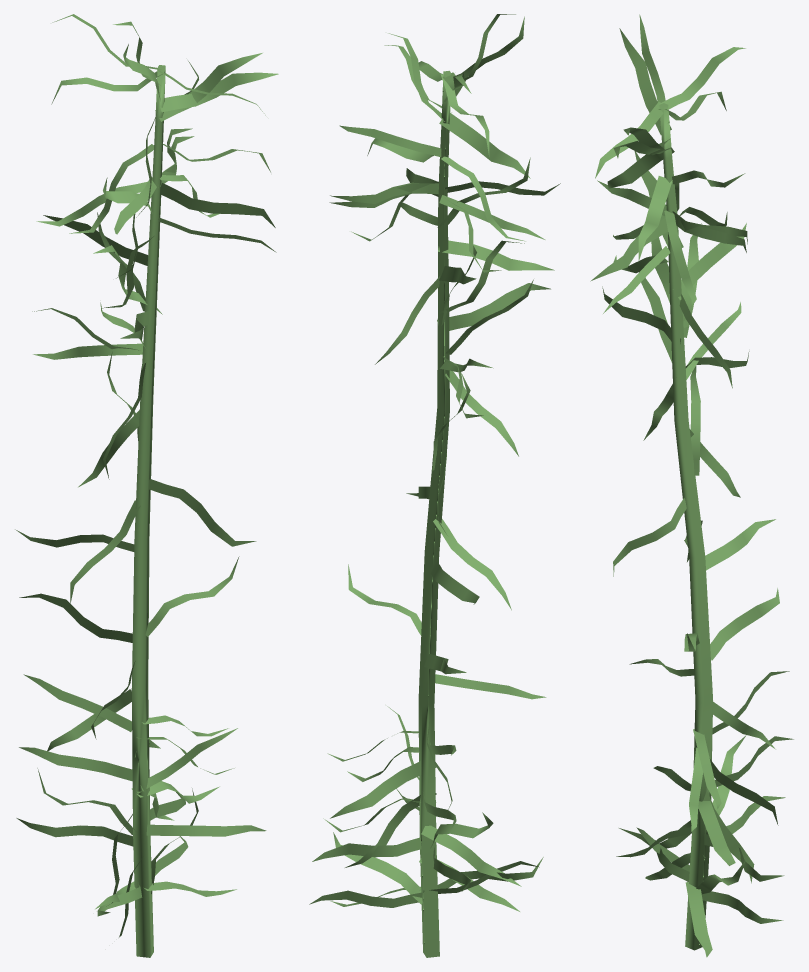
Rendered from Alga.fbx.
3 renders of one model, left to right at view 1: azimuth 30°, elevation 25°; view 2: azimuth 150°, elevation 25°; view 3: azimuth 270°, elevation 25°, orthographic. The views are drawn at different scales.
Visible parts, largest first — view 1: Alga; view 2: Alga; view 3: Alga.
Boxes of the visible parts, <box> form: Alga: <box>15,14,278,957</box>; Alga: <box>309,14,560,957</box>; Alga: <box>590,14,793,957</box>.
Bounding box in the file's own units: 52.91 × 256 × 52.68.
